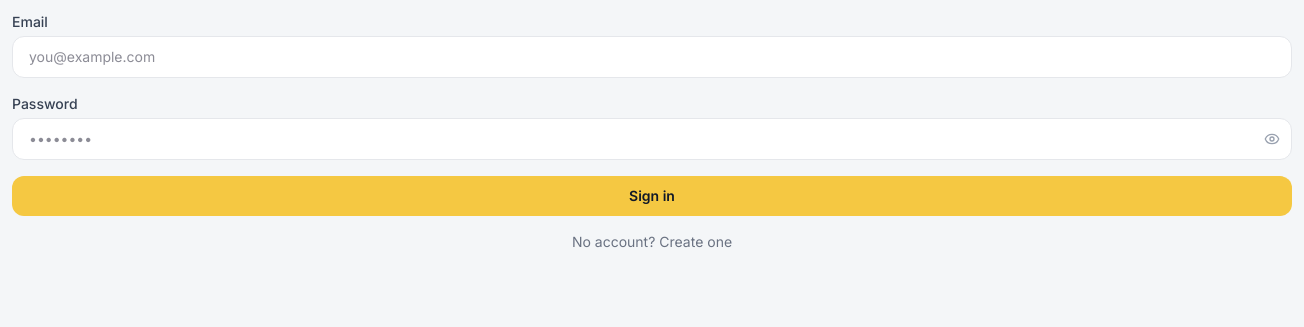
Test: LoginForm › shows a fallback error when the API returns no message
Type "user@test.com" into the field labelled "Email" at (652, 57), box [12,36,1292,78]
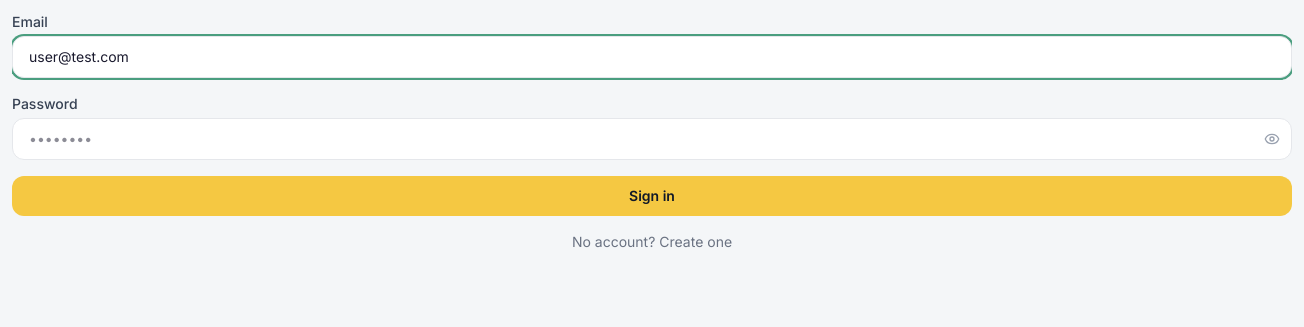
Type "password123" into the password field labelled "Password" at (652, 139), box [12,118,1292,160]
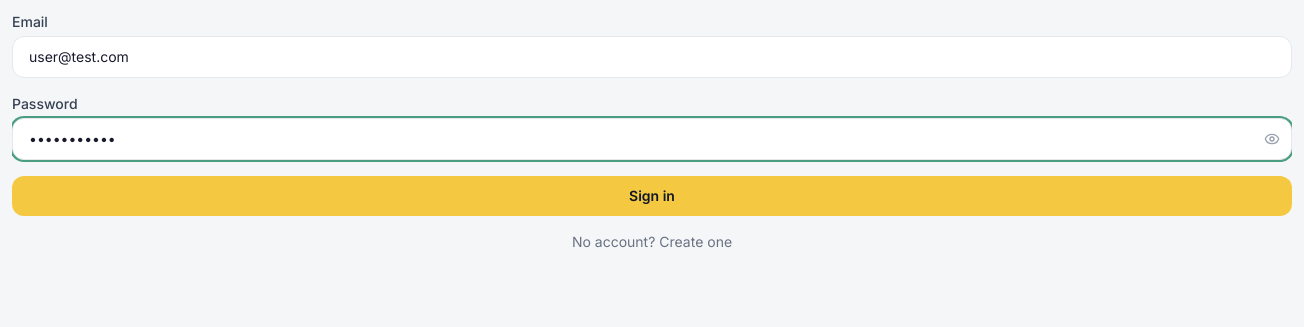
Click the button "Sign in" at (652, 196), box [12,176,1292,216]
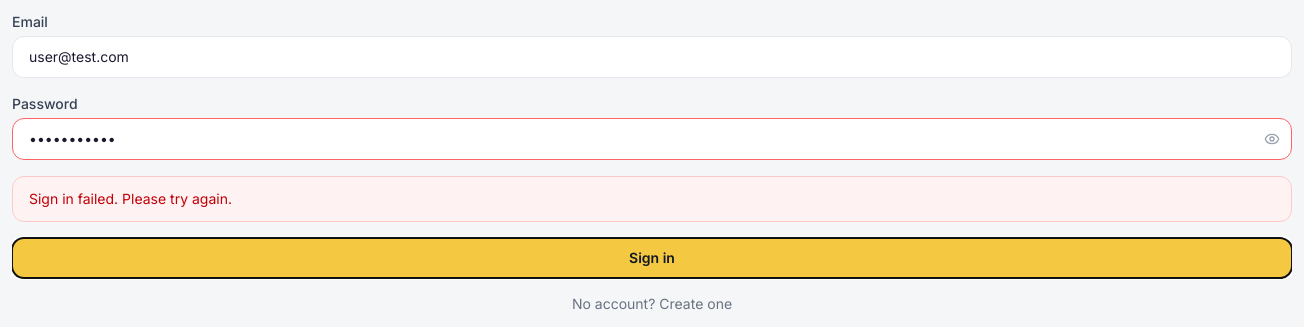
Result: the text "Sign in failed. Please try again." is shown at [12,176,1292,222]
